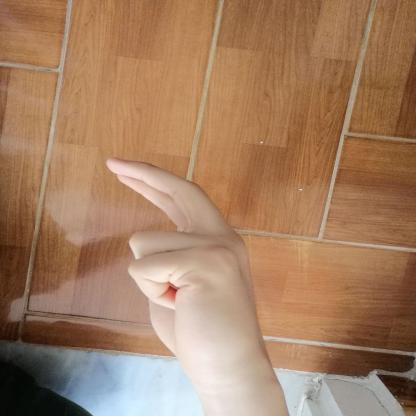ZAY: (91, 146, 278, 381)
